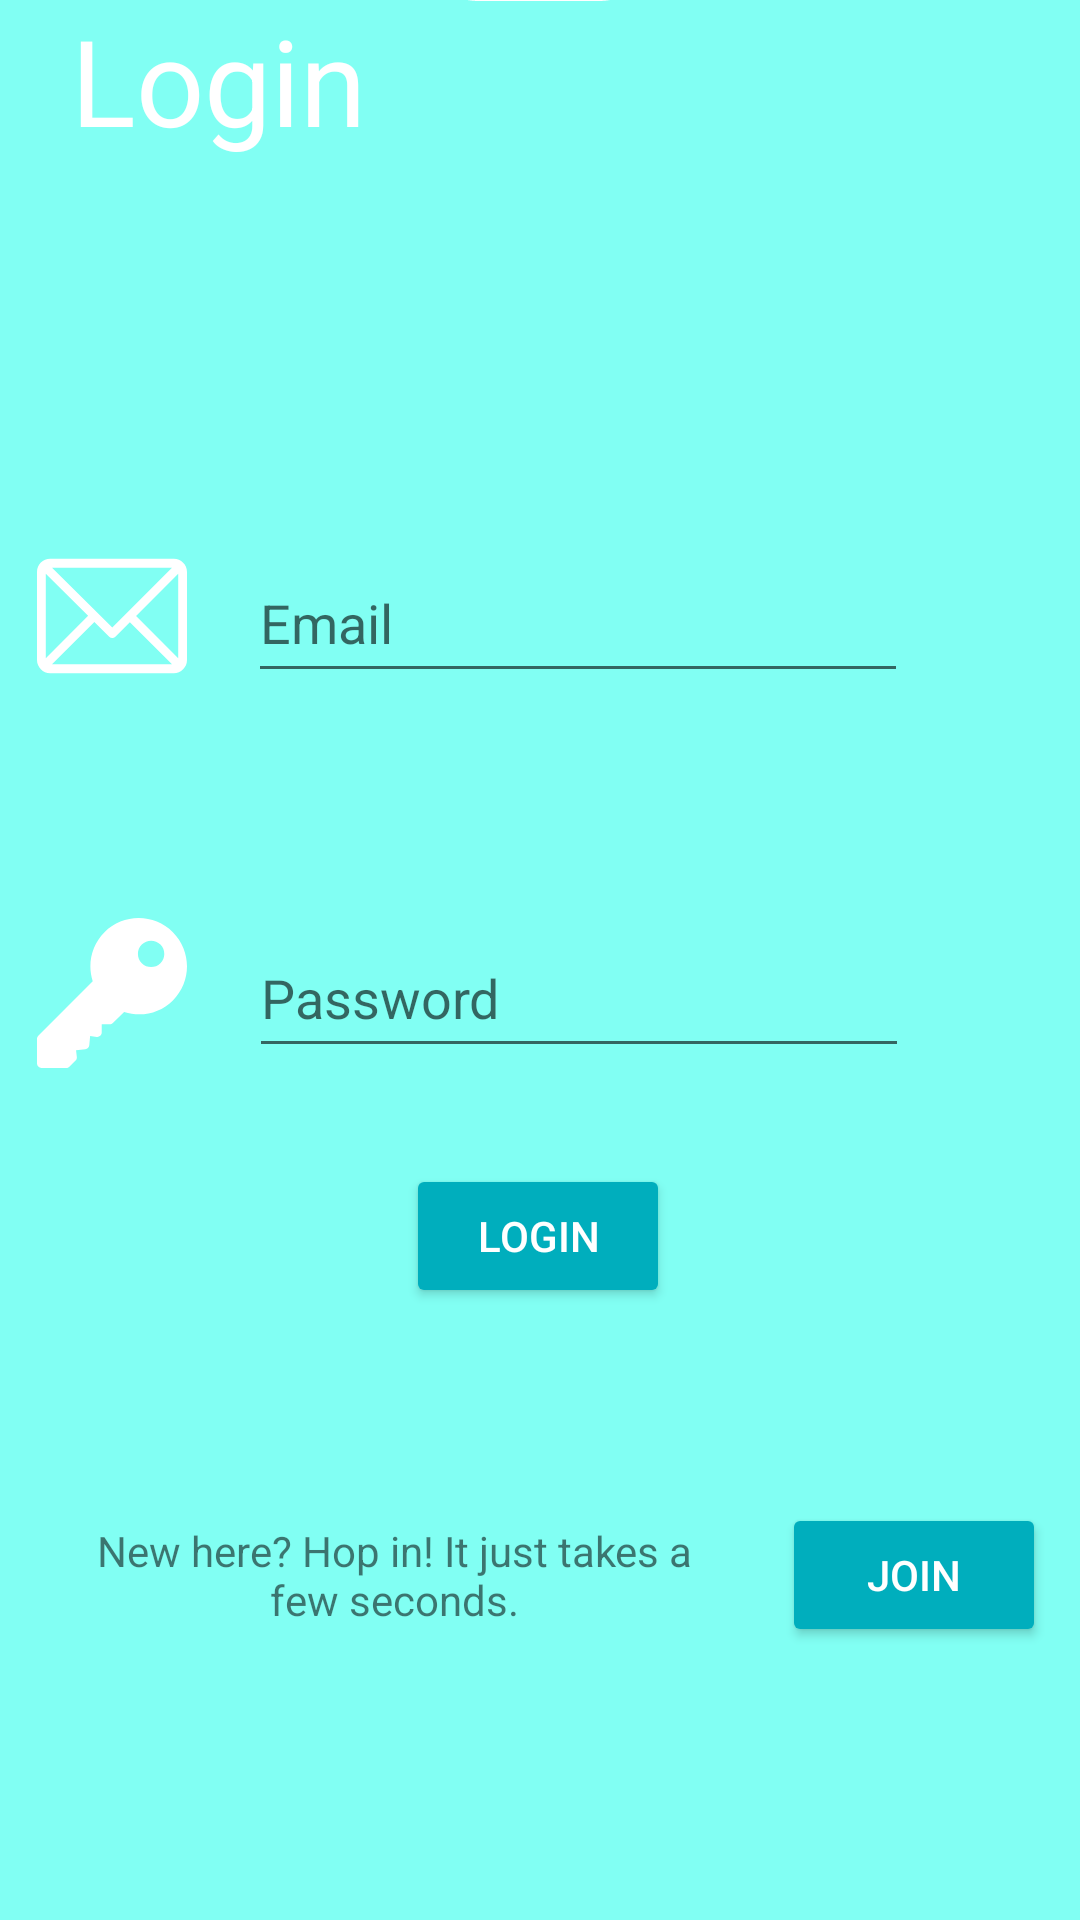

Icons on this 1080 x 1920 Android screen, each with its box as (x1, y1, x2, y2):
key: (37, 918, 187, 1068)
